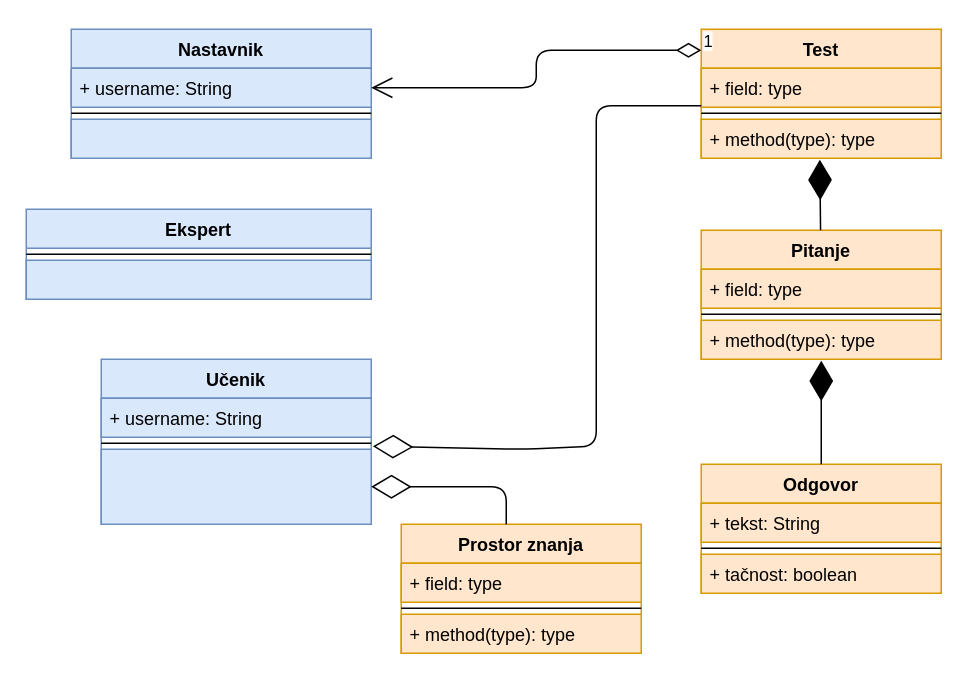
Image size: 968x684. Some labels were removed from this diagram. The centre of each missing label's shape, as x and y in pixels:
"+ kreirajProstorZnanja(): Prostor znanja" belongs at pixel 198 279.
"+ kreirajTest(Prostor znanja): Test" belongs at pixel 220 138.
"+ pregledRezultata(Test): void" belongs at pixel 235 486.
